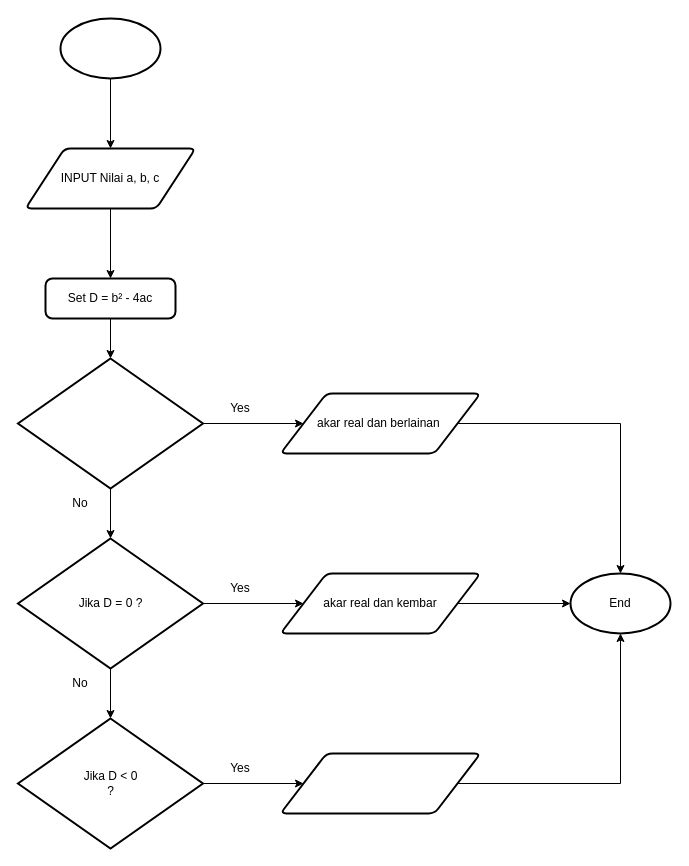
This 689x866 diagram has some shape labels left out. Each missing label, with the centre of its shape:
D > 0 ?: point (110, 423)
Jika D < 0 → akar imajiner ?: point (380, 783)
Start: point (110, 48)
